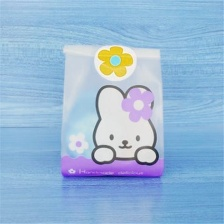snack: (51, 37, 172, 183)
